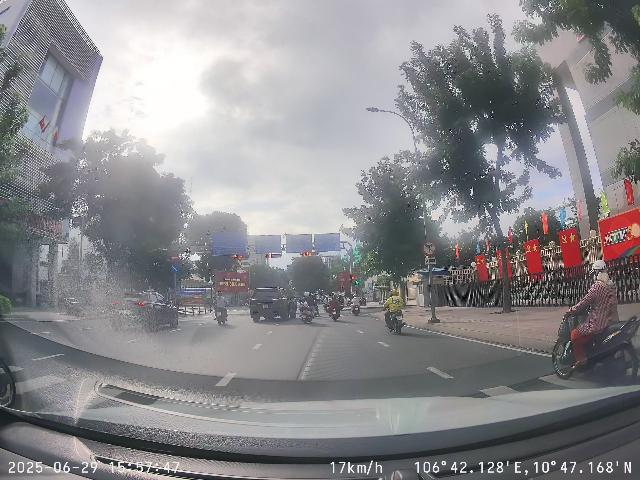137-cam-re-trai-va-re-phai: (422, 240, 436, 256)
